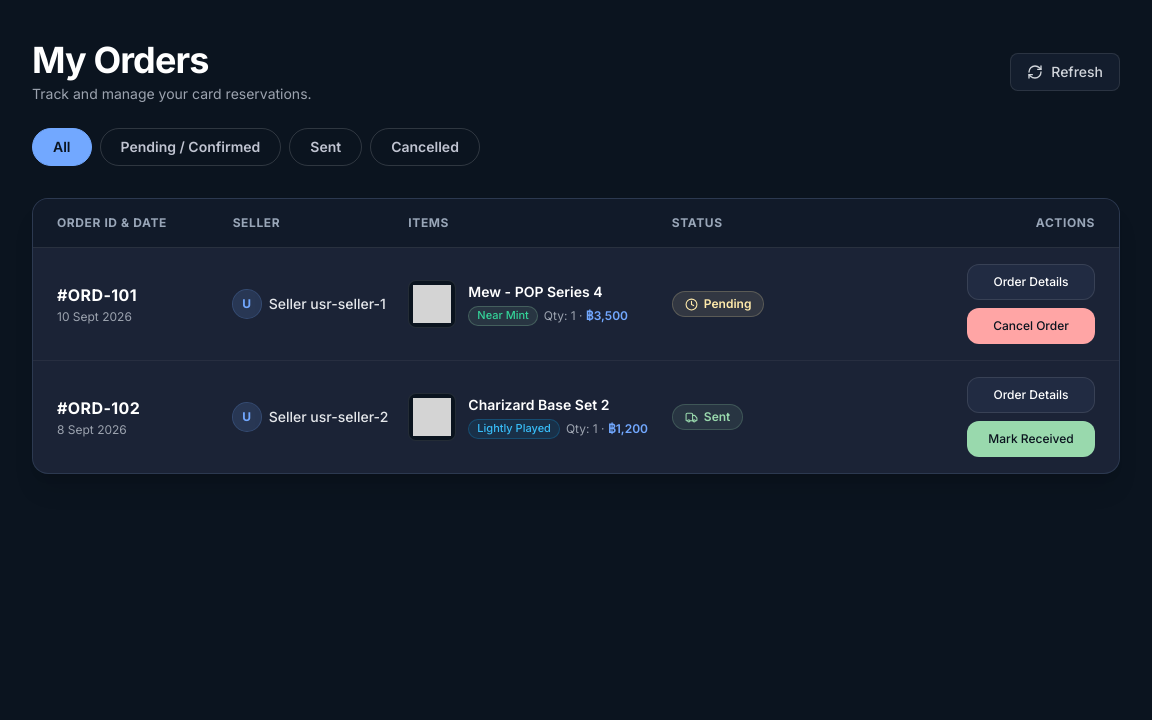
Test: MyOrdersPage (SCRUM-80) › opens Order Details modal when clicking the entire order row
Expected: the text "#ORD-102" is shown, [57,398,140,418]
Click the button with aria-label "View details for order #ord-102": (104, 408) [33,360,1119,473]
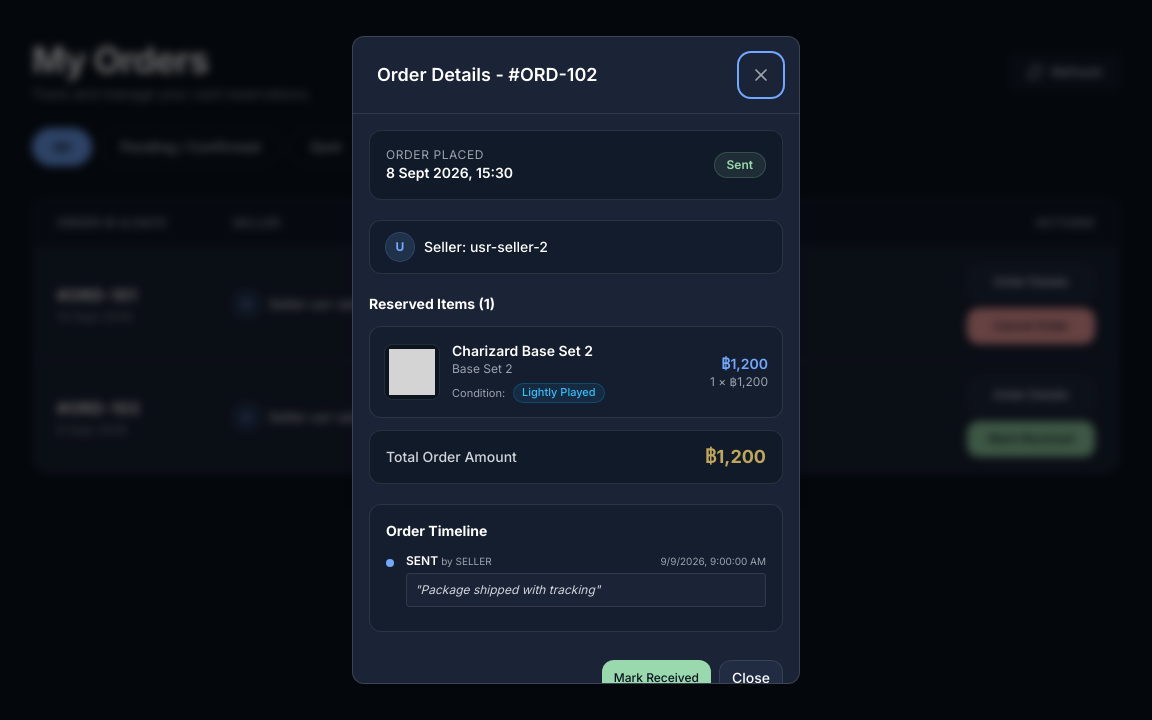
Expected: the heading "Order Details - #ORD-102" is shown, [377,61,598,89]
